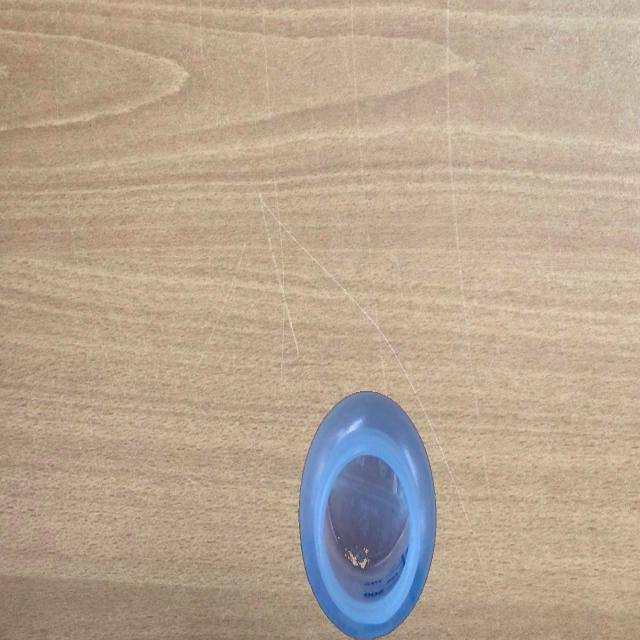bottle: (297, 384, 441, 640)
